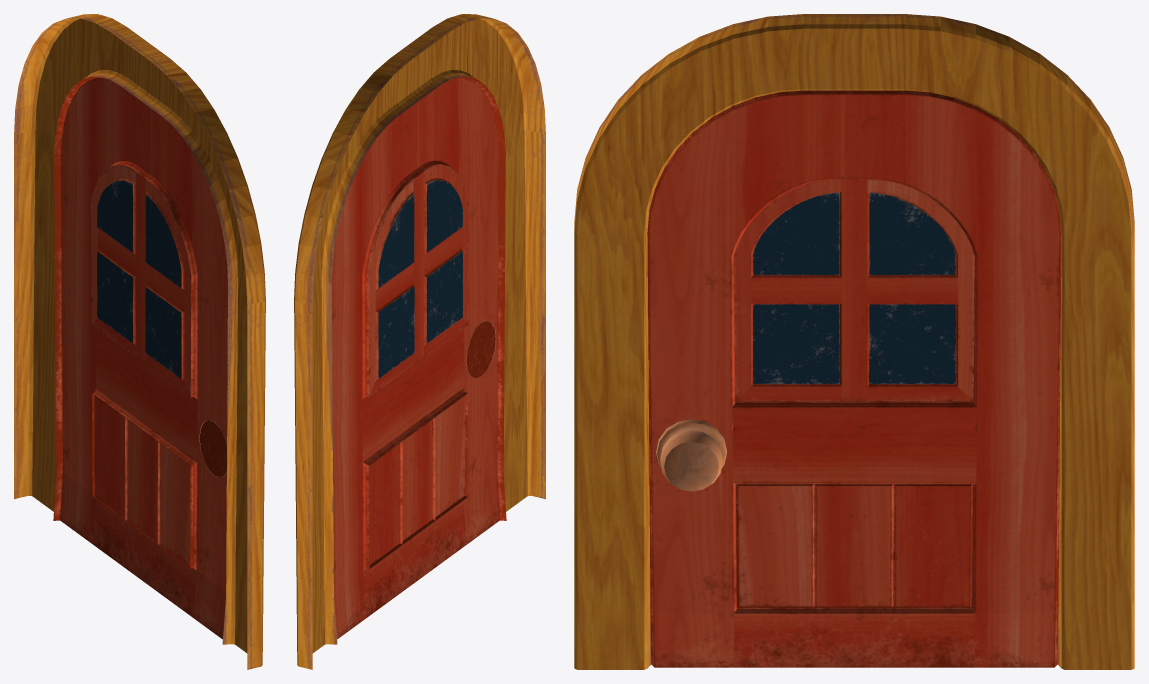
The model's file is door.obj.
3 views of the same model, side by side, from view 1: azimuth 30°, elevation 25°; view 2: azimuth 150°, elevation 25°; view 3: azimuth 270°, elevation 25° (orthographic). The views are drawn at different scales.
Visible parts, largest first — view 1: obj2.041, obj2, obj2.040, obj2.001, obj2.039, obj2.035, obj2.038, obj2.031, obj2.033, obj2.047, obj2.046, obj2.032 (+4 smaller); view 2: obj2.041, obj2, obj2.040, obj2.001, obj2.039, obj2.038, obj2.035, obj2.031, obj2.032, obj2.046, obj2.047, obj2.033 (+4 smaller); view 3: obj2.041, obj2, obj2.040, obj2.001, obj2.039, obj2.035, obj2.038, obj2.031, obj2.046, obj2.047, obj2.032, obj2.033 (+6 smaller).
Part boxes in pixels (x1,y1,x2,y2): obj2.041: (14,14,265,669); obj2: (53,76,227,639); obj2.040: (92,393,190,568); obj2.001: (92,328,197,465); obj2.039: (93,500,196,617); obj2.035: (97,251,133,343); obj2.038: (145,286,181,378); obj2.031: (133,171,146,364); obj2.033: (146,180,191,396); obj2.047: (145,193,181,288); obj2.046: (97,180,133,252); obj2.032: (91,164,135,324); obj2.041: (294,14,545,669); obj2: (332,76,506,639); obj2.040: (369,393,467,568); obj2.001: (362,328,467,465); obj2.039: (363,500,466,617); obj2.038: (426,251,462,343); obj2.035: (378,286,414,378); obj2.031: (413,171,426,364); obj2.032: (368,180,413,396); obj2.046: (378,193,414,288); obj2.047: (426,180,462,252); obj2.033: (424,164,468,324); obj2.041: (574,14,1134,669); obj2: (647,90,1061,667); obj2.040: (736,484,972,607); obj2.001: (732,401,976,484); obj2.039: (734,607,974,667); obj2.035: (869,304,955,383); obj2.038: (753,304,839,383); obj2.031: (839,179,869,401); obj2.046: (869,192,955,274); obj2.047: (753,192,839,274); obj2.032: (867,179,974,400); obj2.033: (734,179,841,400).
Bounding box in the file's own units: 12.14 × 140 × 110.
Materials: 1 (1 with a texture image).
